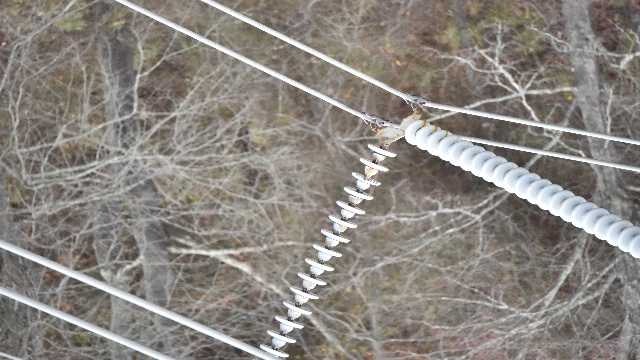broken_local: (352, 171, 380, 187)
insulator_unspecified: (405, 117, 639, 260), (255, 142, 398, 359)
